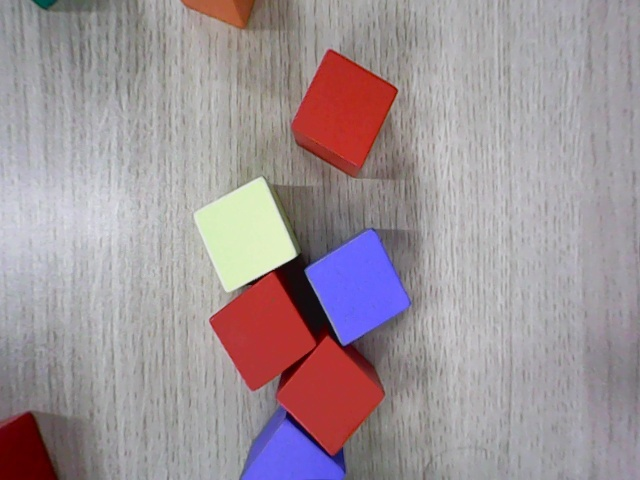upside of small cube: (274, 335, 386, 460), (289, 49, 400, 169), (206, 273, 317, 393), (190, 176, 300, 295), (303, 228, 411, 348), (236, 420, 346, 479)
